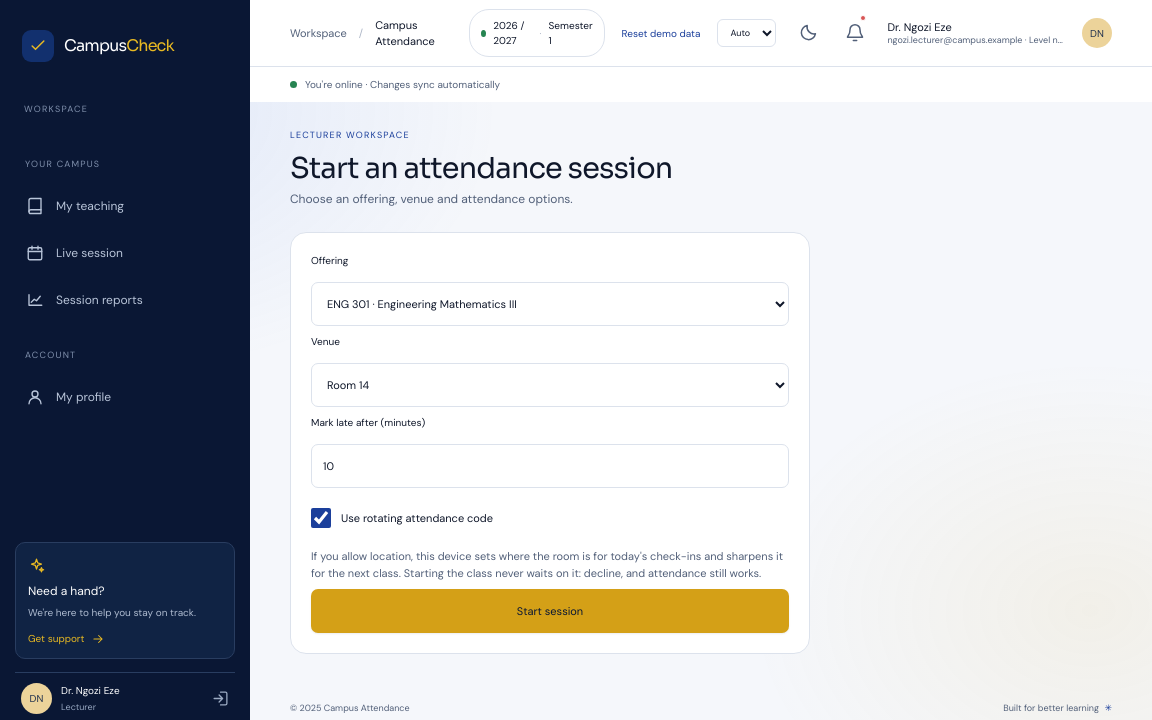
Test: Campus Attendance screens › shows API field errors beside the start-session form
Click the button "Start session": (550, 611) [311, 589, 789, 633]
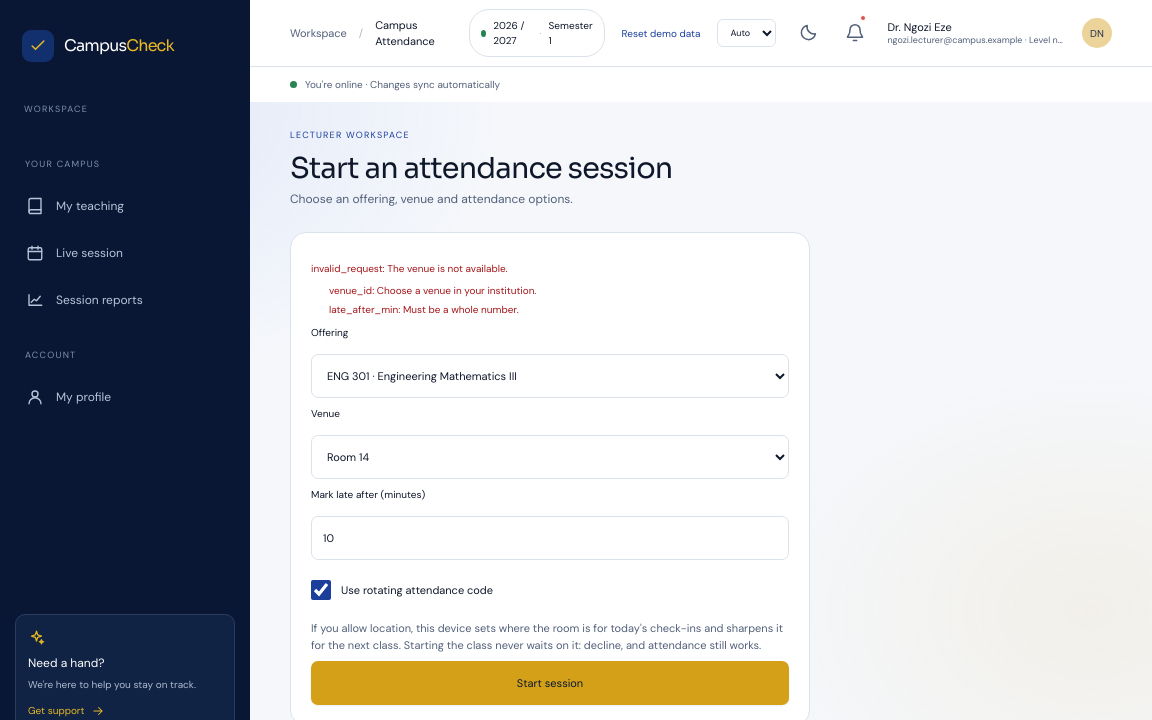
Now the 2nd message shows "invalid_request: The venue is not available.", box [311, 262, 508, 275]
Now the 2nd message shows "venue_id: Choose a venue in your institution.", box [311, 262, 536, 316]
Now the 2nd message shows "late_after_min: Must be a whole number.", box [311, 262, 536, 316]
